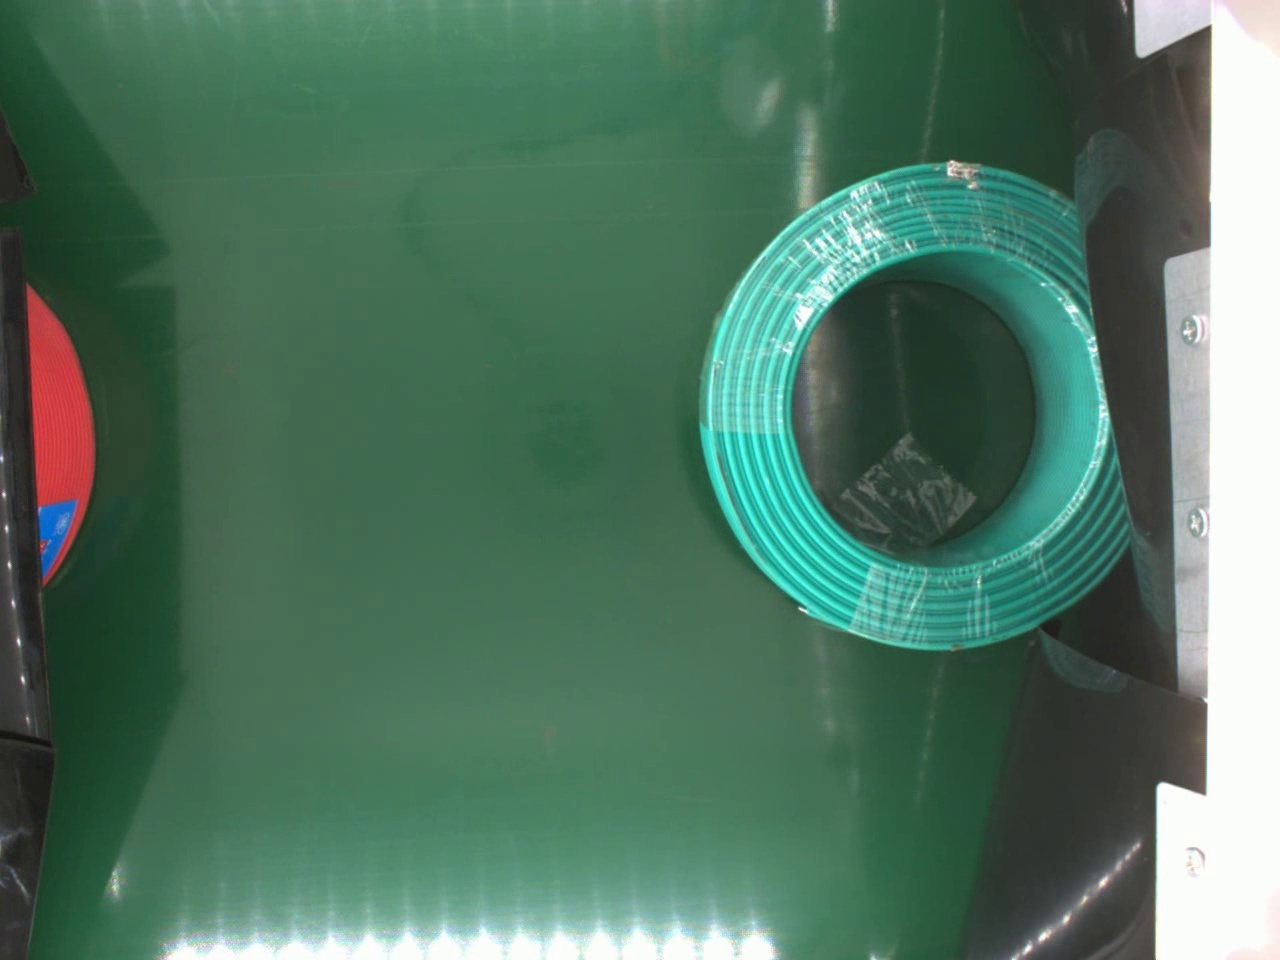green: (695, 157, 1134, 653)
